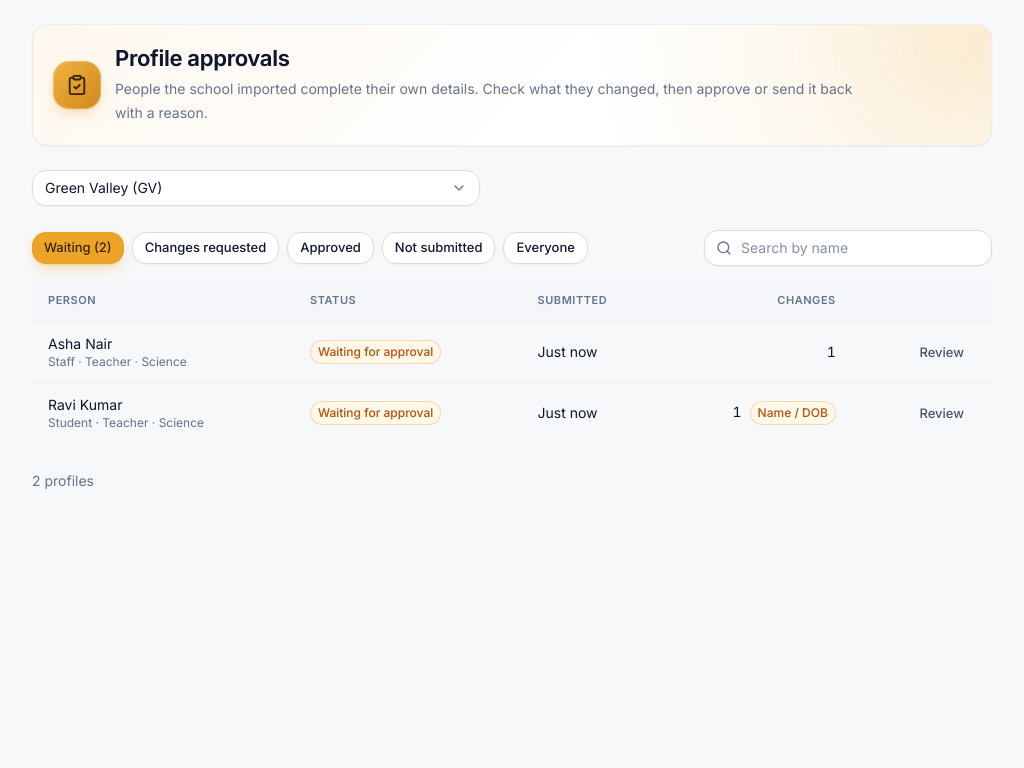
it: Profile approvals › offers no decision buttons without the permissions
Step 1. Click the button "Review" in the row of "Asha Nair" → (942, 352), box top-left (907, 336), bottom-right (976, 368)
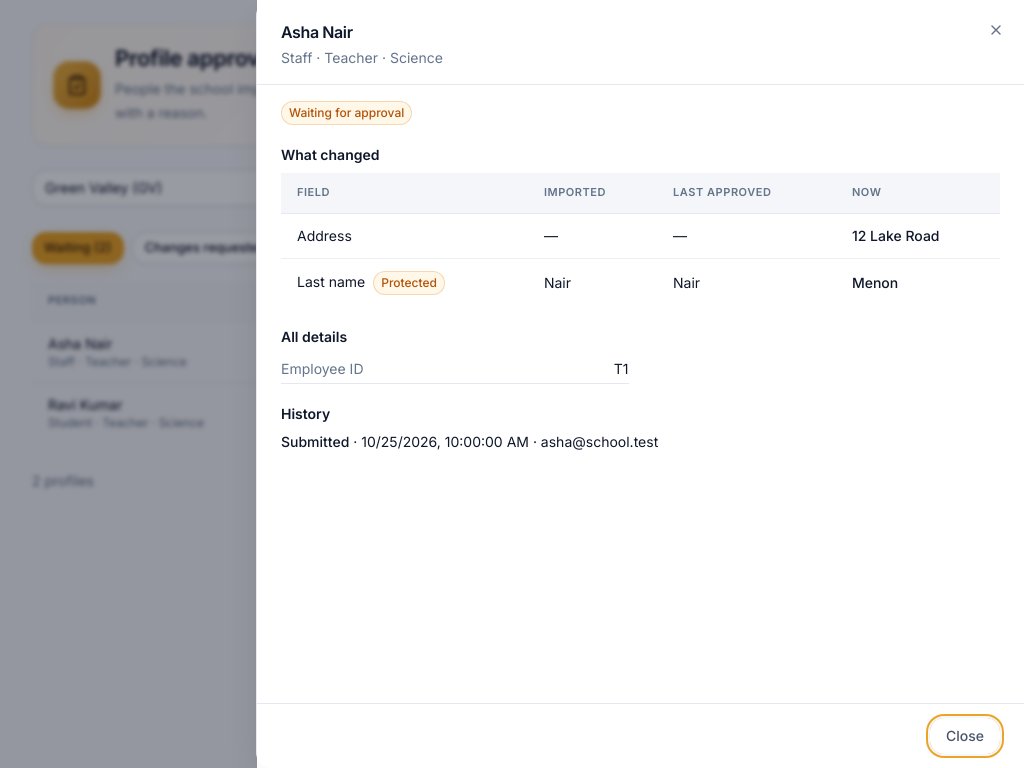
Expected: the text "12 Lake Road" is shown, top-left (836, 213), bottom-right (1000, 258)
